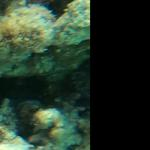dead: (1, 1, 89, 148)
